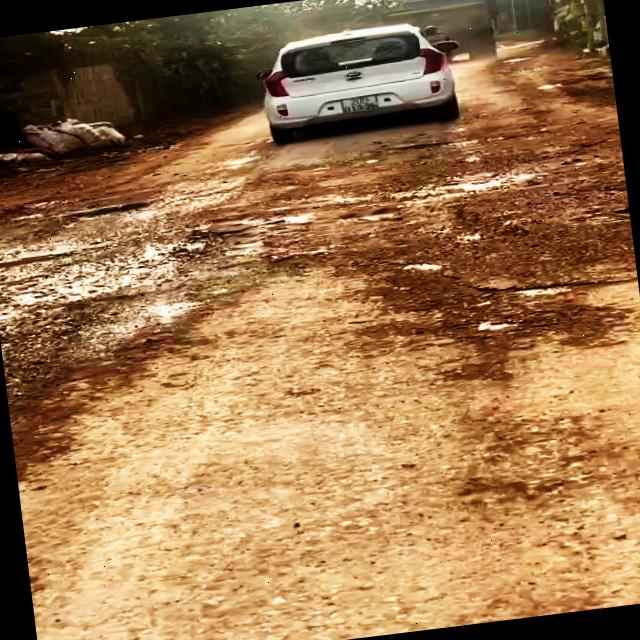pothole: (0, 210, 291, 327), (366, 162, 538, 208)
